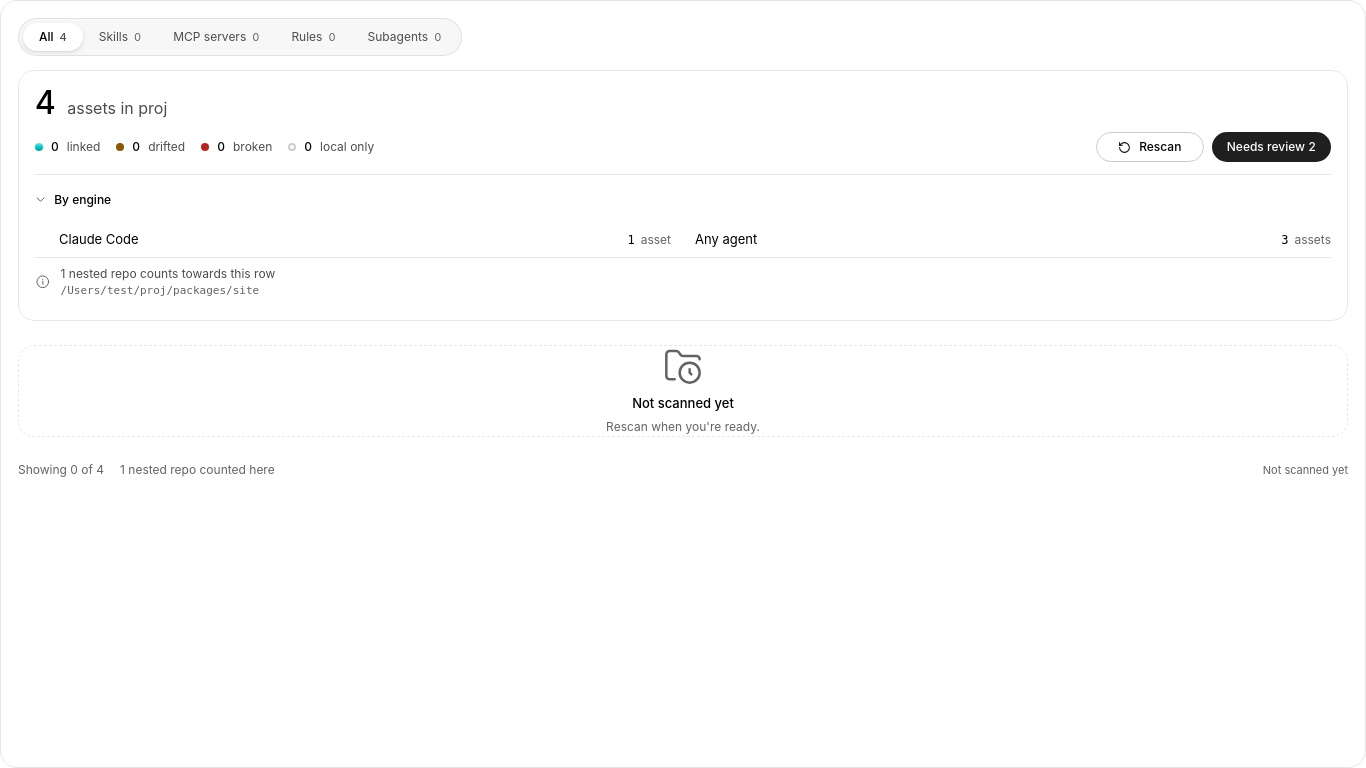
it: RepoPane hero band and pill › without a duplicate, both actions render
This screenshot has width=1366, height=768.
Click the text "Needs review 2" at (1271, 147), box 1227,138 -> 1316,156
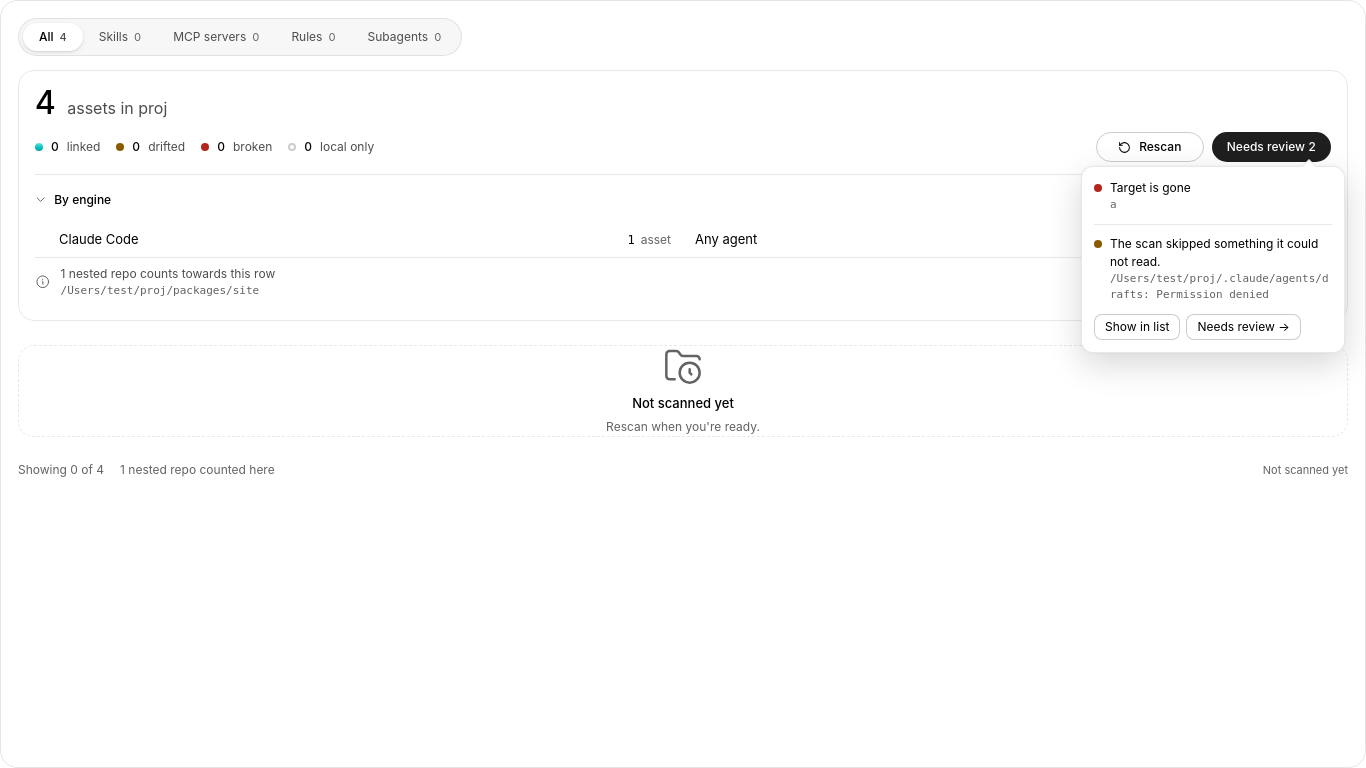
Result: the button "Show in list" is shown at 1094,314 -> 1180,340
Result: the button "Needs review →" is shown at 1186,314 -> 1301,340
